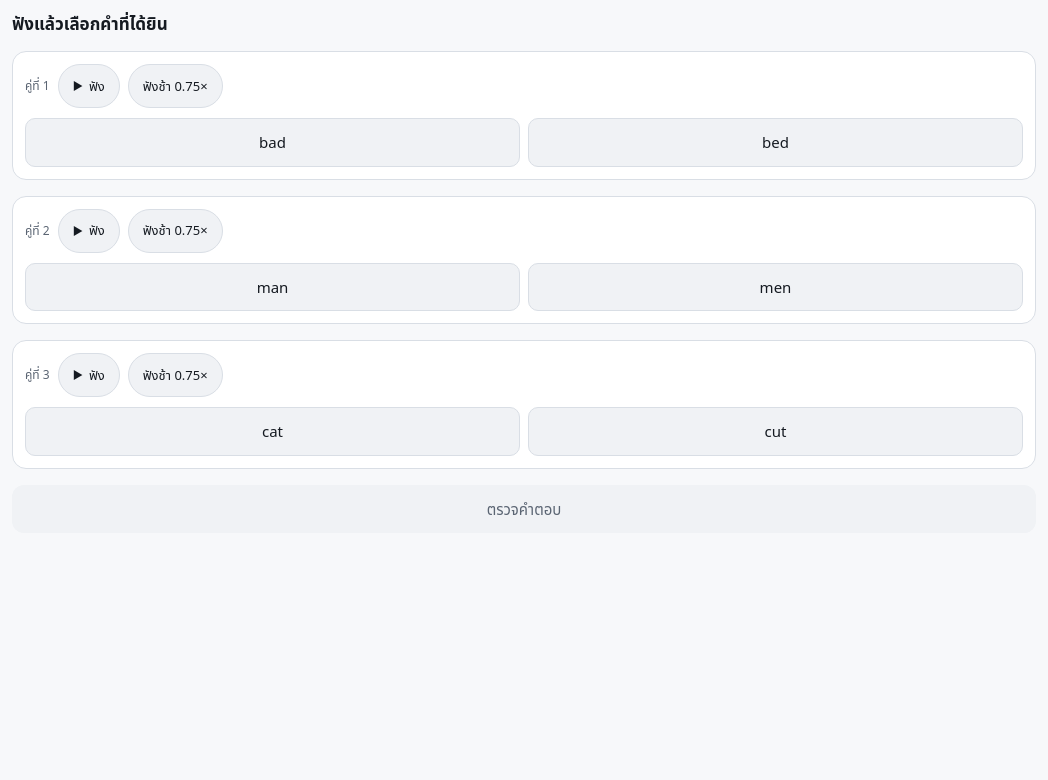
it: MinimalPair › cannot check until every pair has a choice
This screenshot has width=1048, height=780.
Click the radio button labelled "bad" at coordinates (272, 143), box [25,118,520,167]
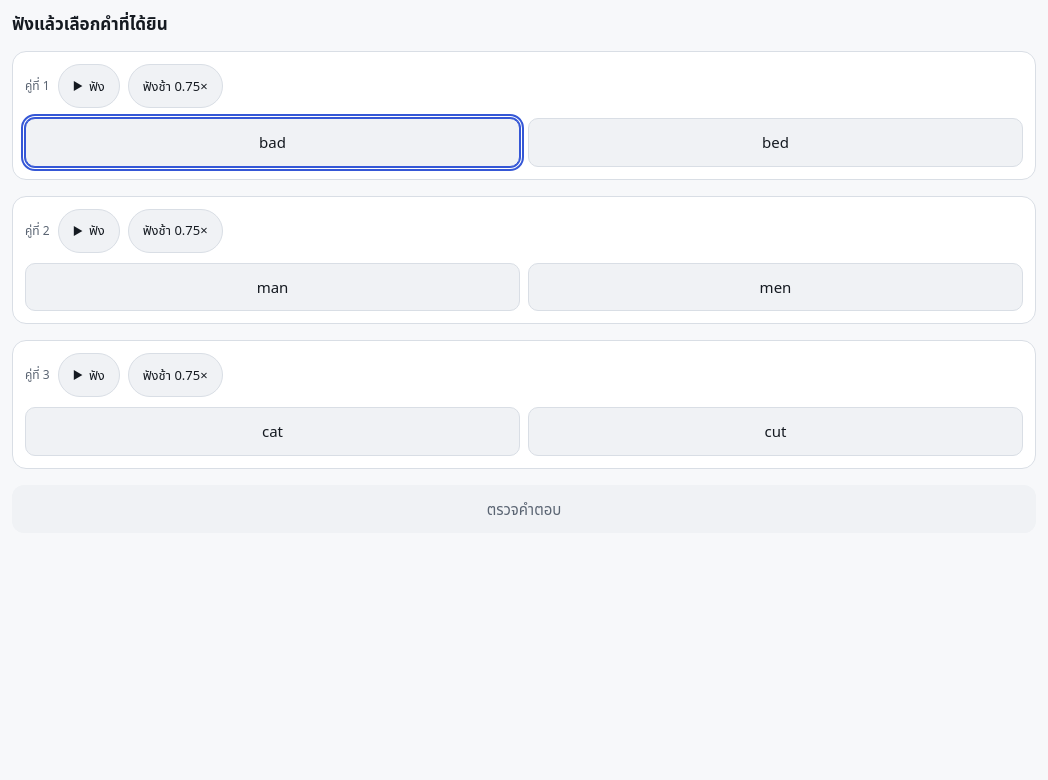
Click the radio button labelled "men" at coordinates (776, 287), box [528,263,1023,311]
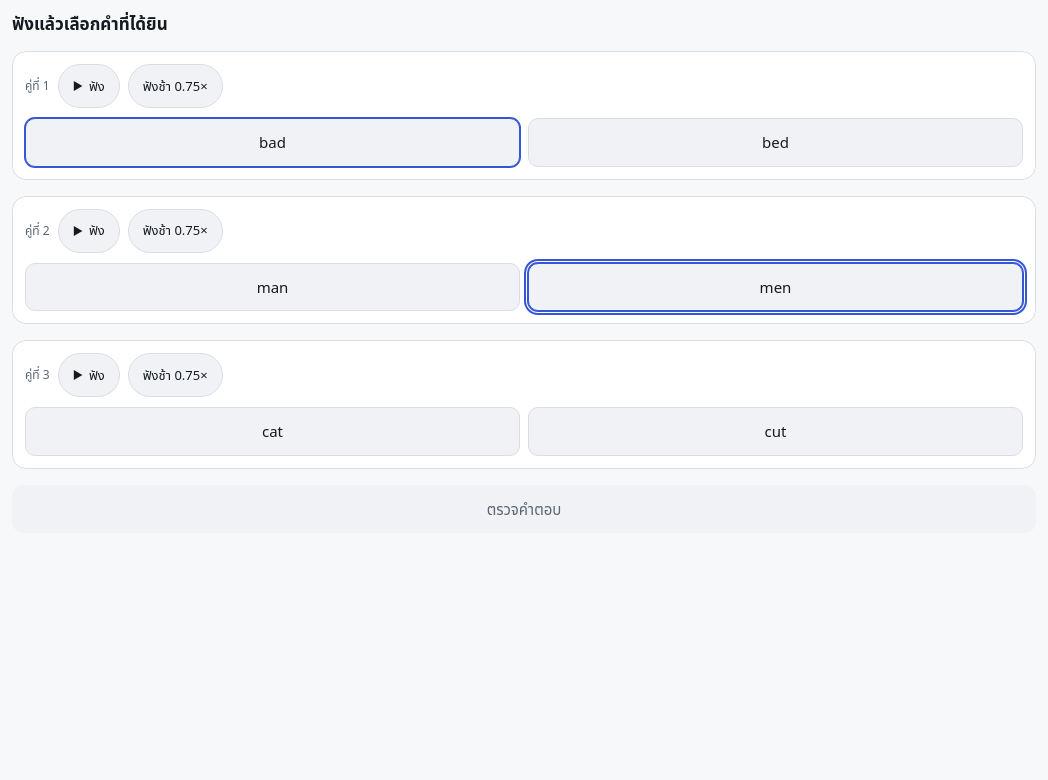
Check: the button "ตรวจคำตอบ" is disabled, box [12,485,1036,533]
Click the radio button labelled "cut" at coordinates (776, 432), box [528,407,1023,456]
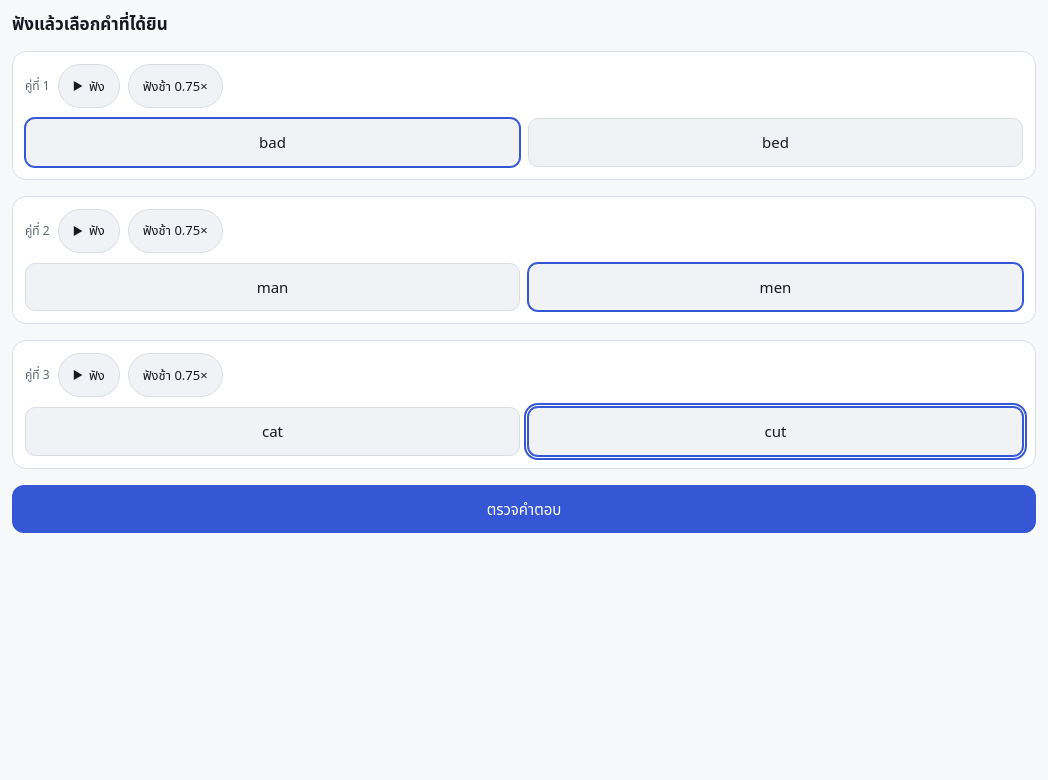
Check: the button "ตรวจคำตอบ" is enabled, box [12,485,1036,533]
